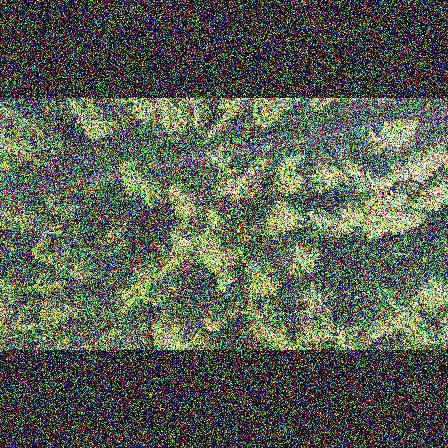Sick: (32, 218, 64, 244), (212, 272, 242, 298)
